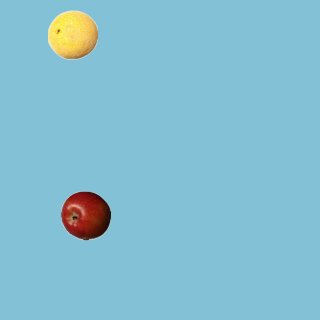Apple Braeburn: (60, 190, 110, 240)
Cantaloupe 1: (47, 9, 97, 59)
